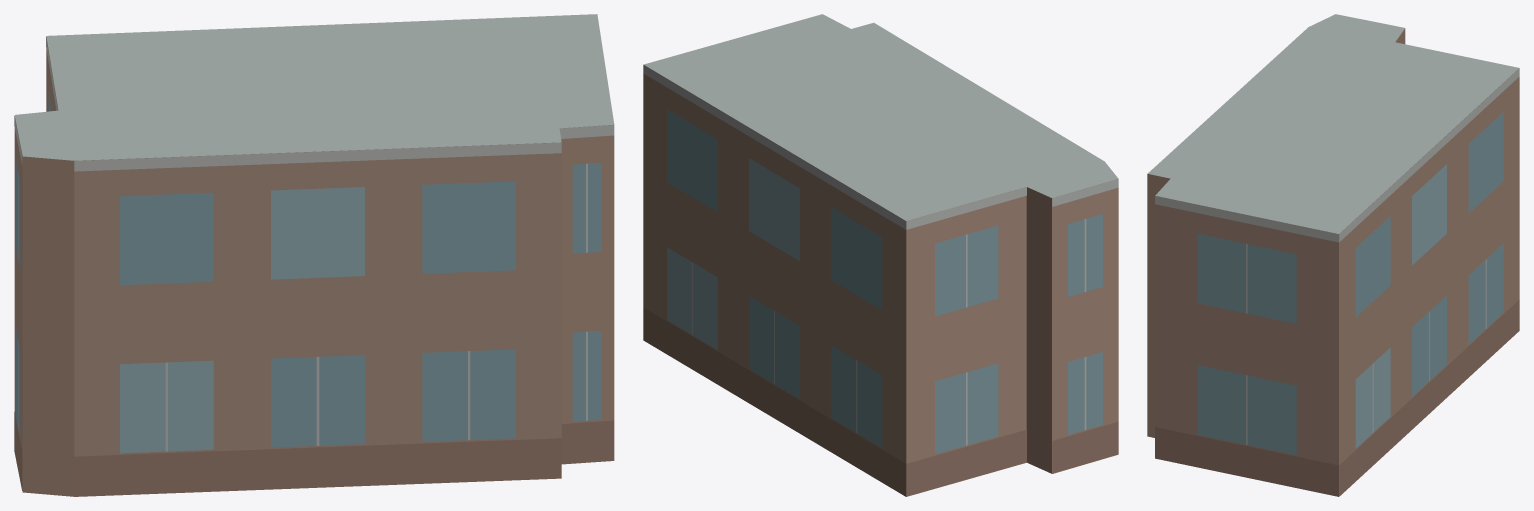
Rendered from survey-upis-32527283.glb.
3 views of the same model, side by side, from view 1: azimuth 30°, elevation 25°; view 2: azimuth 150°, elevation 25°; view 3: azimuth 270°, elevation 25° (orthographic). The views are drawn at different scales.
Parts seen in each view (by area): view 1: survey-upis-32527283.tmp; view 2: survey-upis-32527283.tmp; view 3: survey-upis-32527283.tmp.
Boxes of the visible parts, x1,y1,x2,y2 form: survey-upis-32527283.tmp: [14, 14, 614, 496]; survey-upis-32527283.tmp: [643, 14, 1118, 496]; survey-upis-32527283.tmp: [1147, 14, 1519, 496].
Size of the model in its own units: 13.66 by 7.6 by 9.77.
